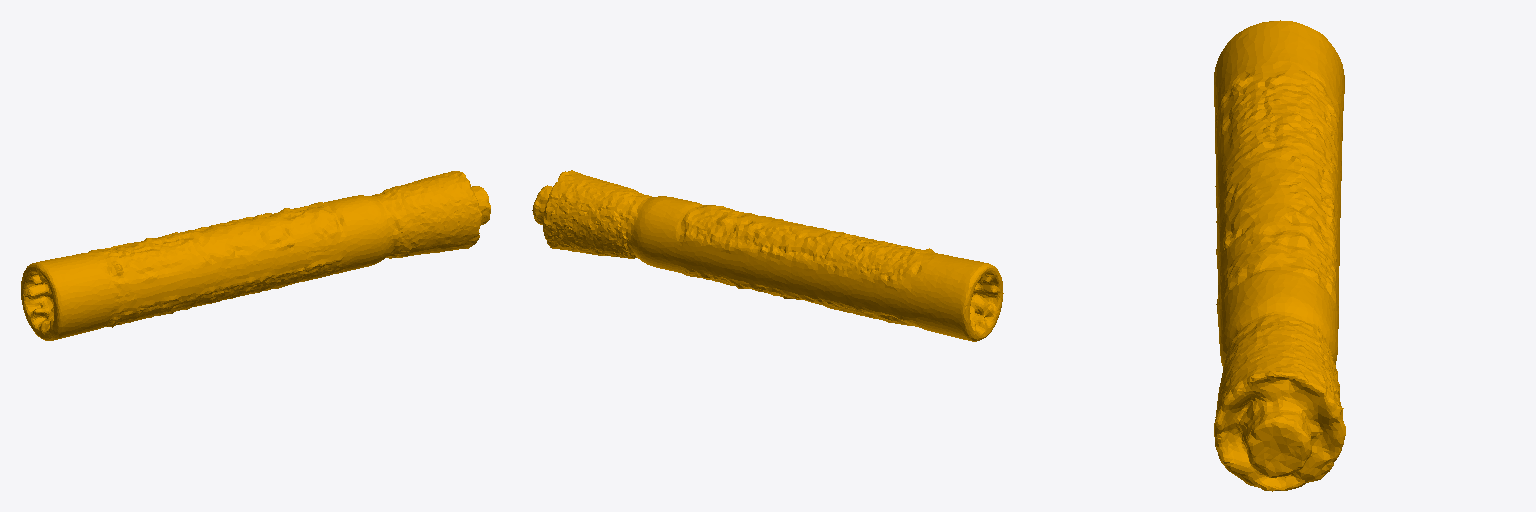
URDF robot description (040_large_marker):
<robot name="040_large_marker">
	<link name="_name">
		<visual>
			<geometry>
				<mesh filename="textured.obj" scale="1 1 1" />
			</geometry>
			<!-- <material name="texture"> -->
				<!-- <color rgba="1.0 1.0 1.0 1.0" /> -->
			<!-- </material> -->
		</visual>
		<collision>
			<geometry>
				<mesh filename="textured_vhacd.obj" scale="1 1 1" />
			</geometry>
		</collision>
		<inertial>
			<mass value="0.1" />
			<inertia ixx="0.001" ixy="0.0" ixz="0.0" iyy="0.001" iyz="0.0" izz="0.001" />
		</inertial>
	</link>
</robot>

--- Render facts (derived) ---
The picture shows the robot from 3 angles, left to right: view 1: azimuth 30°, elevation 25°; view 2: azimuth 150°, elevation 25°; view 3: azimuth 270°, elevation 25°; orthographic projection.
Robot: 040_large_marker — 1 links, 0 joints (none); root link _name; default pose: every joint at zero.
Links seen in each view (by area): view 1: _name; view 2: _name; view 3: _name.
Link boxes in pixels (x1,y1,x2,y2): _name: (21,171,490,340); _name: (532,170,1003,341); _name: (1214,20,1345,491).
Size in the robot's own frame: 0.121 by 0.0189 by 0.021 metres.
Meshes: 1 distinct files referenced, 1 mesh visuals loaded (1 OBJ).
